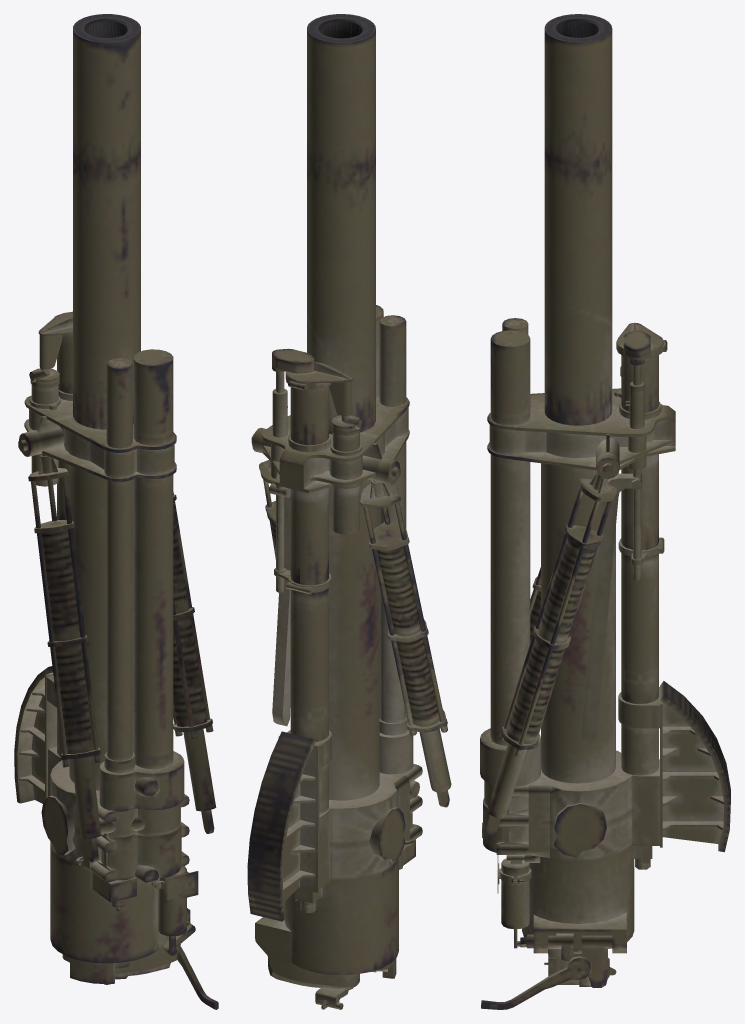
File: Gun_01.glb
The picture shows the model from 3 angles, left to right: view 1: azimuth 30°, elevation 25°; view 2: azimuth 150°, elevation 25°; view 3: azimuth 270°, elevation 25°; orthographic projection. The views are drawn at different scales.
Parts seen in each view (by area): view 1: set_0_group_0; view 2: set_0_group_0; view 3: set_0_group_0.
Part boxes in pixels (box(x1,y1,x2,y2)): set_0_group_0: box(14, 14, 218, 1009); set_0_group_0: box(247, 14, 451, 1009); set_0_group_0: box(480, 14, 730, 1009).
Size of the model in its own units: 0.6471 by 3.95 by 0.9423.
1 material, 1 textured.
